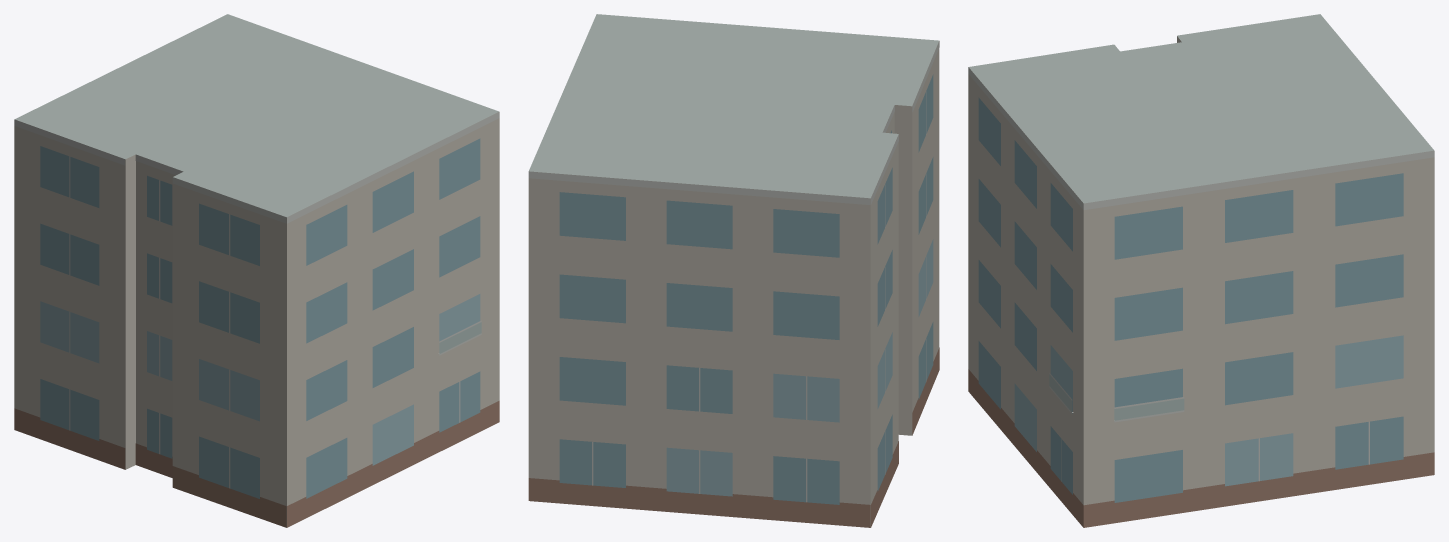
The model's file is survey-upis-32743050.glb.
3 renders of one model, left to right at view 1: azimuth 30°, elevation 25°; view 2: azimuth 150°, elevation 25°; view 3: azimuth 270°, elevation 25°, orthographic. The views are drawn at different scales.
Visible parts, largest first — view 1: survey-upis-32743050.tmp; view 2: survey-upis-32743050.tmp; view 3: survey-upis-32743050.tmp.
Boxes of the visible parts, bbox=[...] form: survey-upis-32743050.tmp: bbox=[14, 14, 499, 527]; survey-upis-32743050.tmp: bbox=[528, 14, 939, 527]; survey-upis-32743050.tmp: bbox=[968, 14, 1434, 527].
Size of the model in its own units: 14.67 by 11.7 by 15.25.
